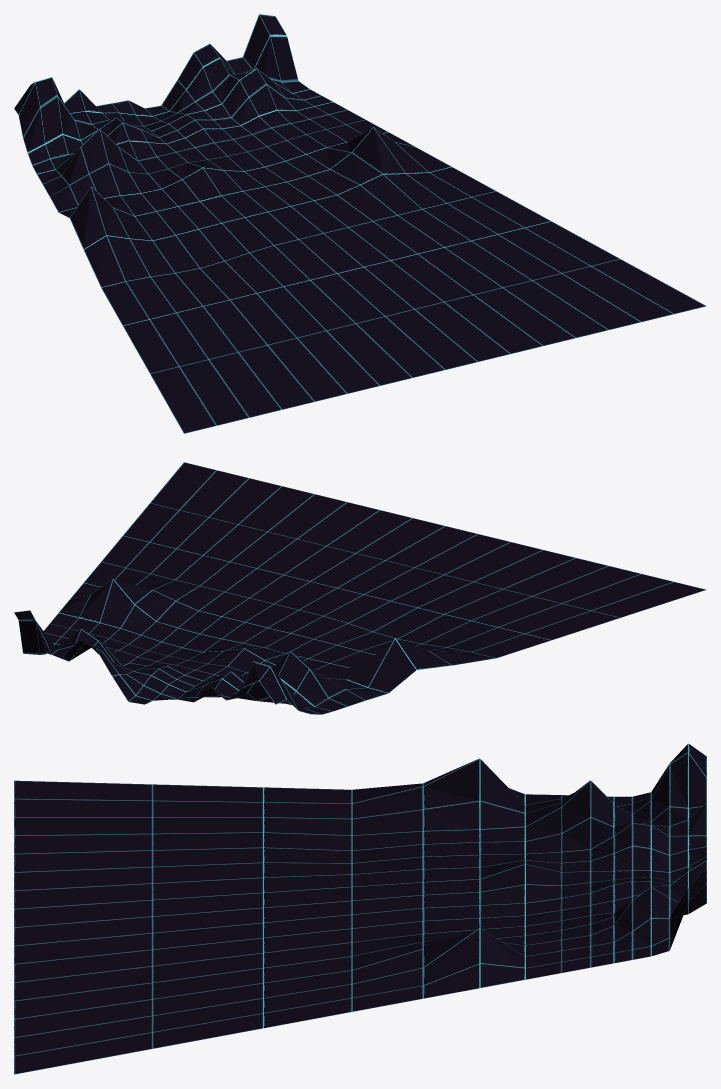
The model's file is Vmountain.fbx.
The picture shows the model from 3 angles, top to bottom: view 1: azimuth 30°, elevation 25°; view 2: azimuth 150°, elevation 25°; view 3: azimuth 270°, elevation 25°; orthographic projection. The views are drawn at different scales.
Visible parts, largest first — view 1: grid_mountain; view 2: grid_mountain; view 3: grid_mountain.
Boxes of the visible parts, box(x1,y1,x2,y2) form: grid_mountain: box(14, 14, 706, 433); grid_mountain: box(14, 462, 706, 714); grid_mountain: box(14, 743, 706, 1074).
Size of the model in its own units: 40 by 7.88 by 39.85.
1 material, 1 textured.
